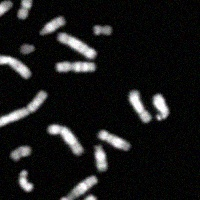chromosome: (0, 87, 47, 128), (50, 174, 97, 200), (54, 32, 97, 59), (47, 125, 82, 157), (0, 54, 31, 79), (96, 130, 131, 152), (129, 89, 151, 123), (54, 59, 97, 72), (38, 15, 63, 36), (152, 94, 169, 120), (17, 168, 34, 193), (0, 0, 14, 26), (15, 0, 32, 21), (94, 144, 106, 171), (92, 22, 111, 37), (12, 145, 31, 160), (19, 41, 34, 56), (66, 193, 97, 200)
